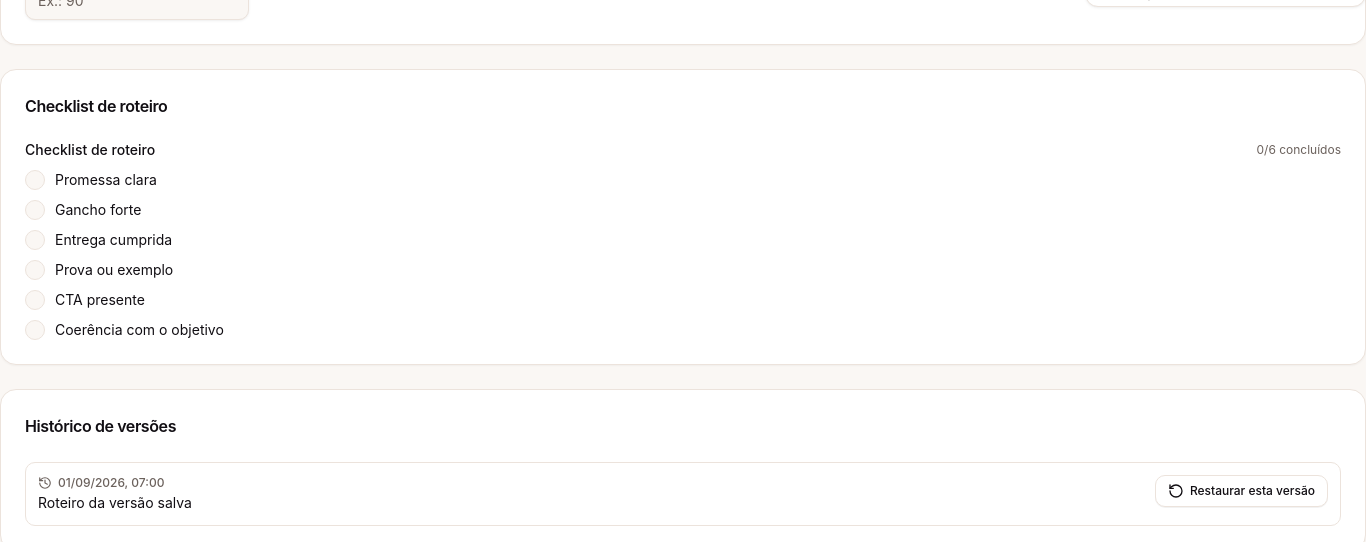
it: ScriptWorkspace › restaurar uma versão do histórico preenche o roteiro com o snapshot salvo
(page scrolled)
Click the button "Restaurar esta versão". click: (1241, 491)
box: [1155, 475, 1328, 507]
(page scrolled)
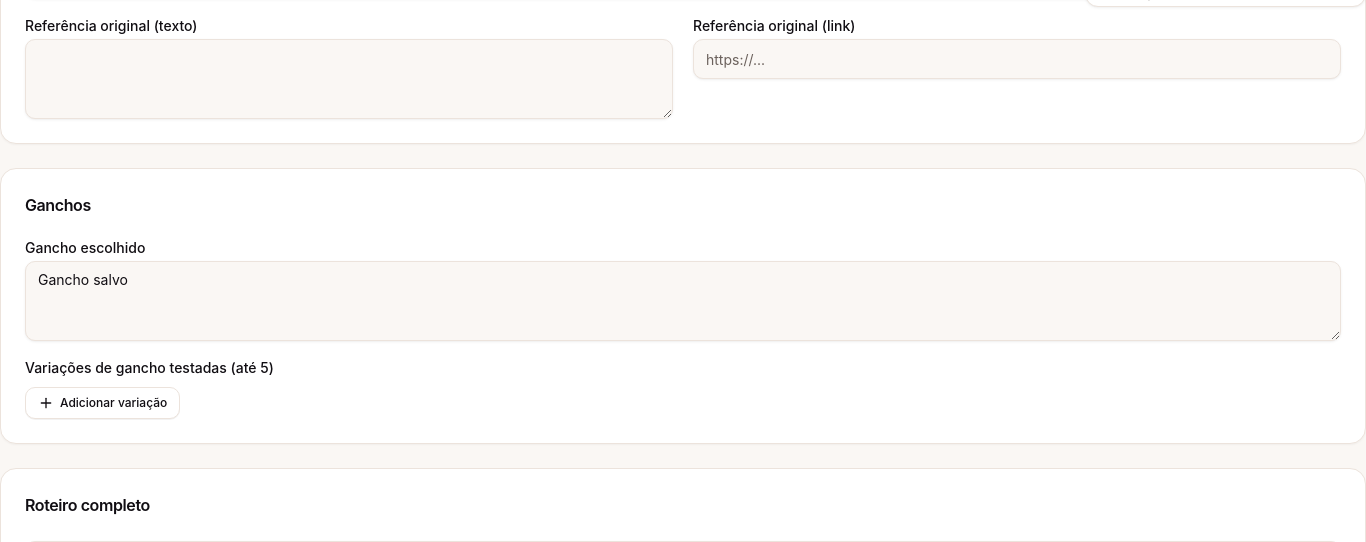
Expected: the text box with id "hook" holds "Gancho salvo", [25, 261, 1341, 341]
